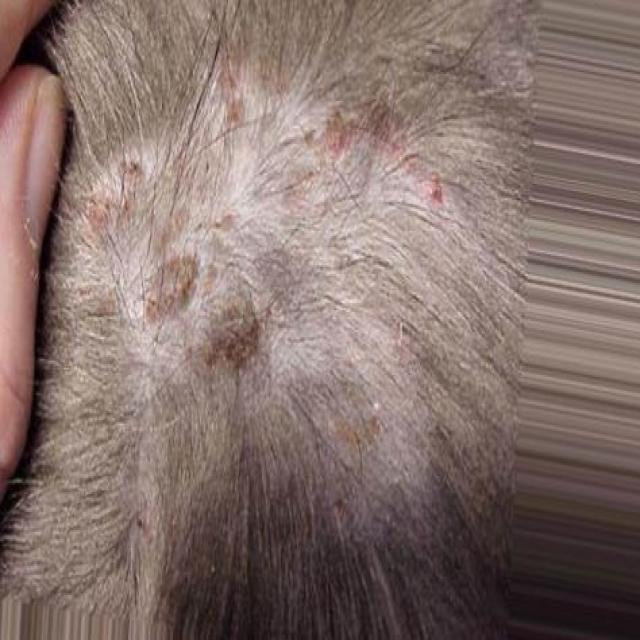di ung bo chet: (84, 71, 455, 487)
